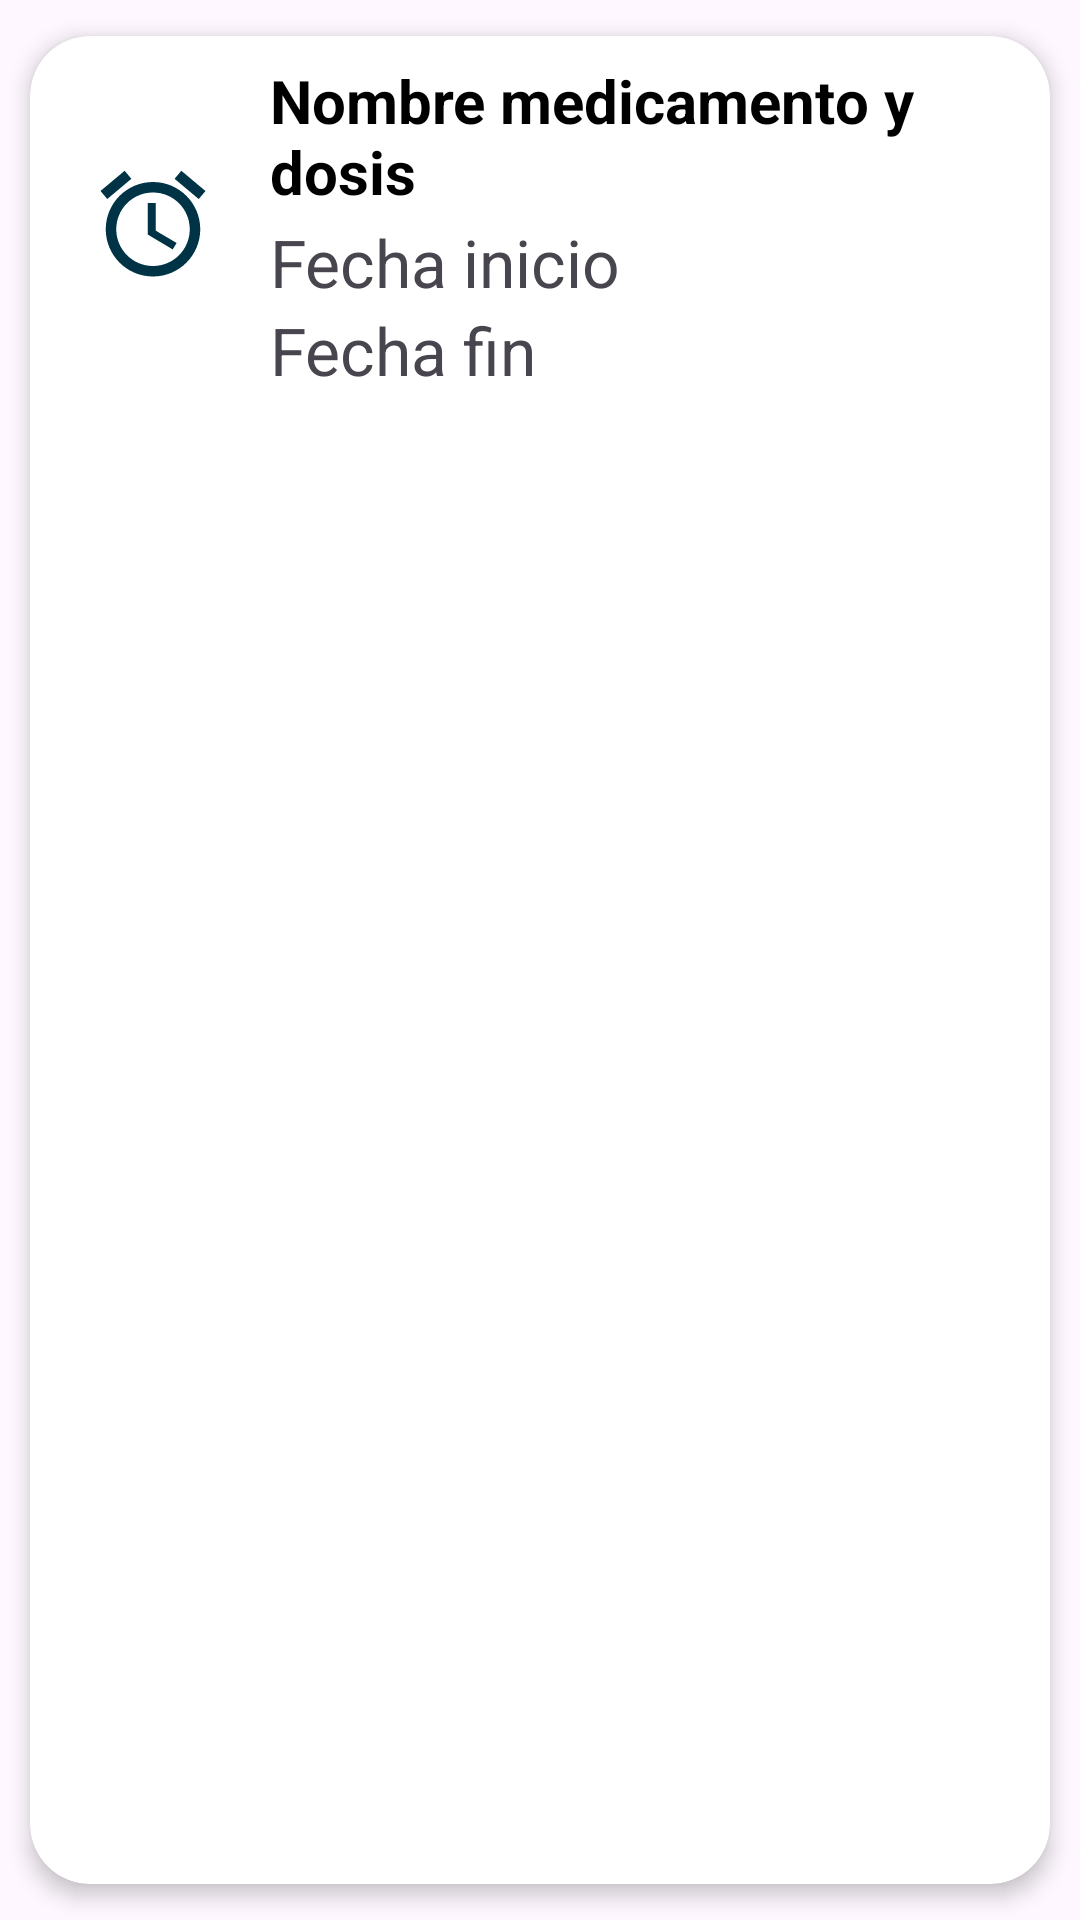

Named icons in this screenshot (1080w x 1920h) and their centers, [x,y]:
visualizar alarmas: [153,224]
